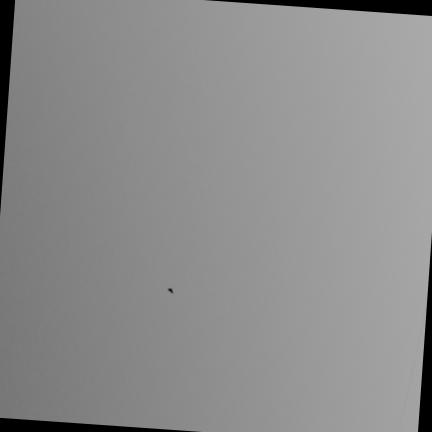Shahed: (168, 287, 172, 291)
